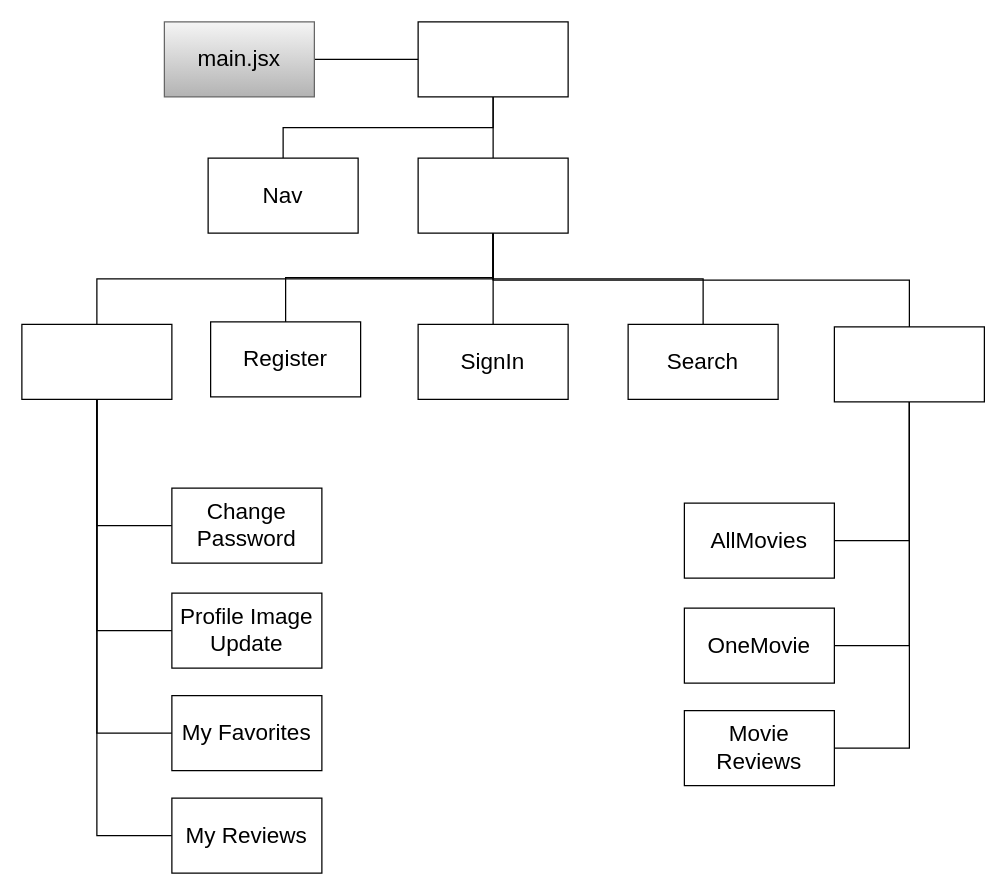
Some shapes in this 1006 by 895 pixel diagram are drawn without their labels. Here are the shapes that lost their labels. From the top down, the box of each, then its label:
(417, 21, 568, 97): App
(417, 157, 568, 233): Main
(21, 323, 172, 399): Profile
(833, 326, 984, 402): Movies
